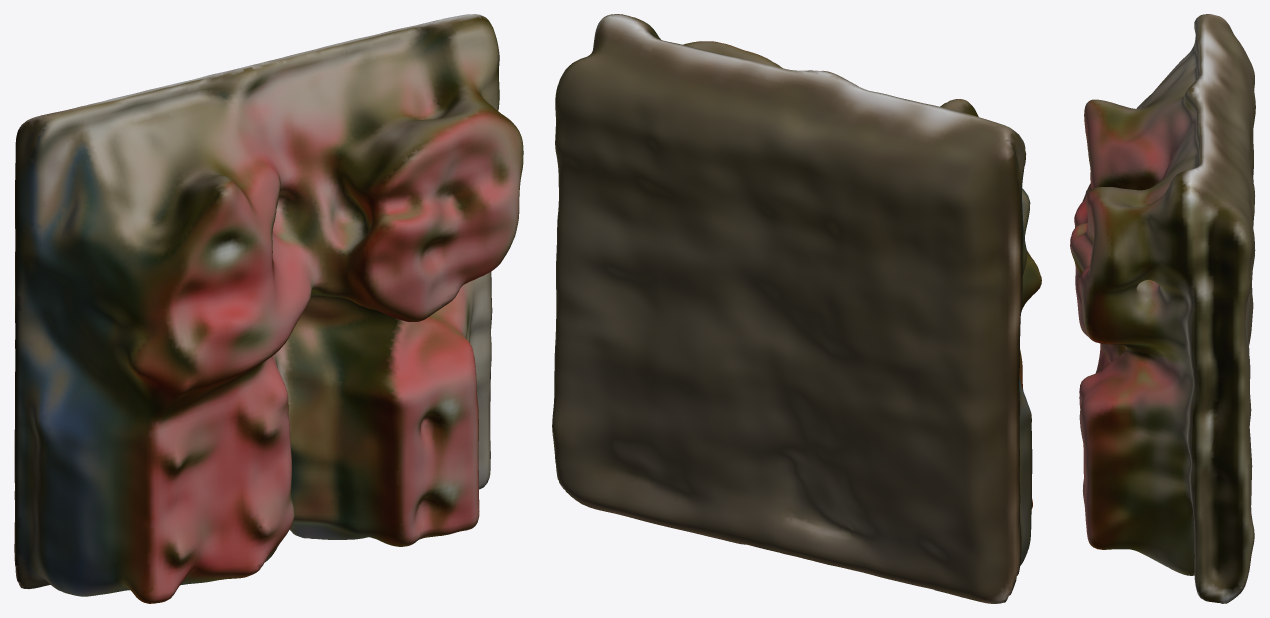
File: sorting_board.glb
3 renders of one model, left to right at view 1: azimuth 30°, elevation 25°; view 2: azimuth 150°, elevation 25°; view 3: azimuth 270°, elevation 25°, orthographic. The views are drawn at different scales.
Bounding box in the file's own units: 0.9926 × 0.9989 × 0.4008.
